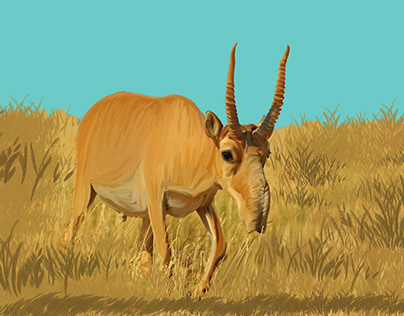saiga: (60, 41, 291, 306)
